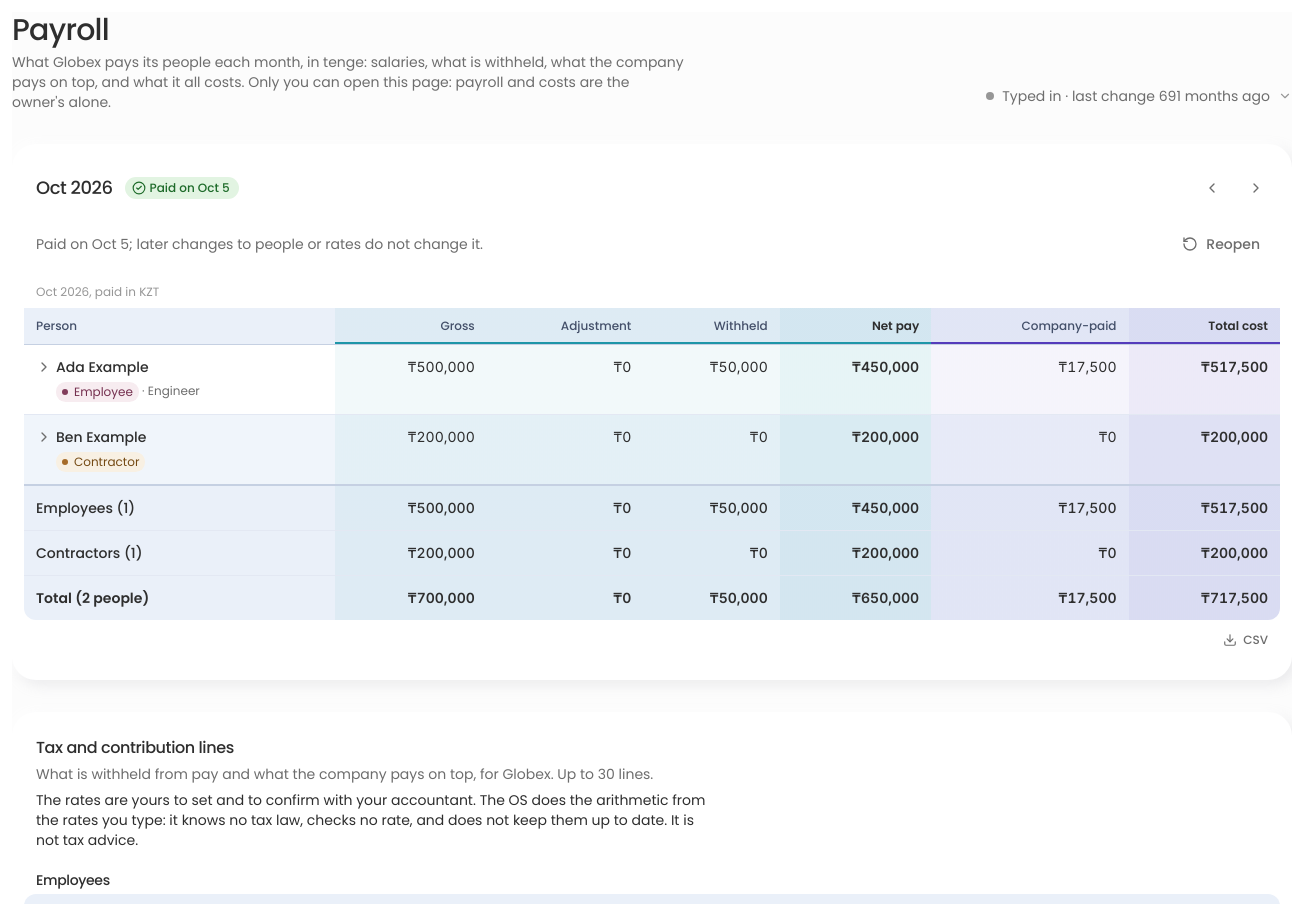
Scenario: PayrollView: a paid month › shows the frozen copy, read-only, with when it was paid
expect the text "Paid on Oct 5" is shown: met, box [125,177,239,199]
expect the text "Paid on Oct 5; later changes to people or rates do not change it." is shown: met, box [36,234,483,254]
Click the button named "Breakdown for Ada Example" at {"x": 92, "y": 367}, box [32,357,153,377]
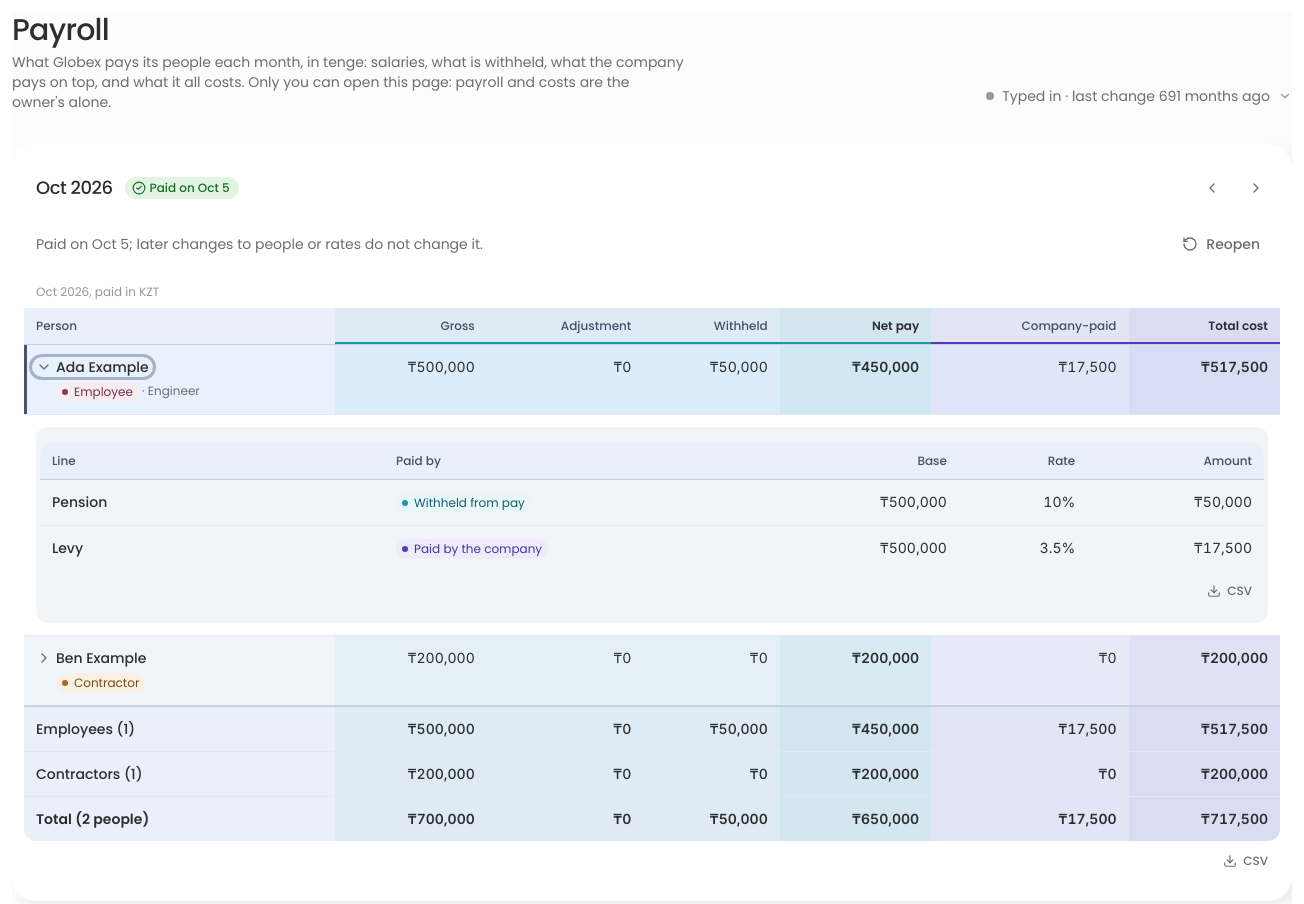
expect the table named "Lines for Ada Example" is shown: met, box [40,443,1264,571]
